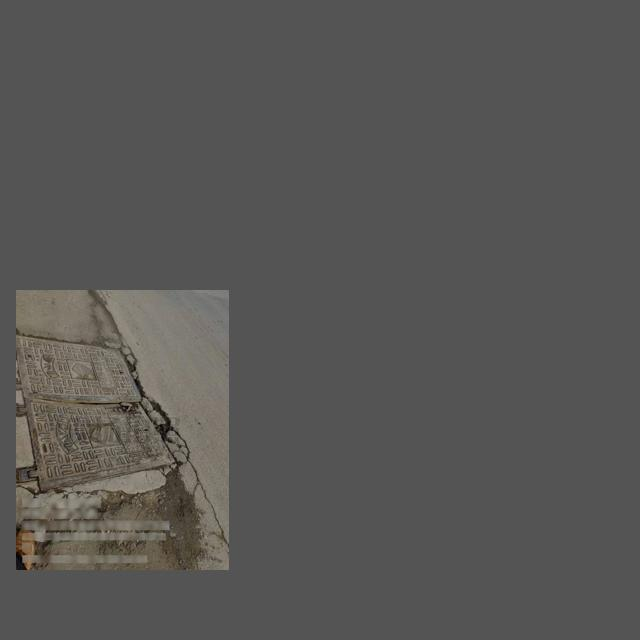good: (16, 335, 170, 475)
